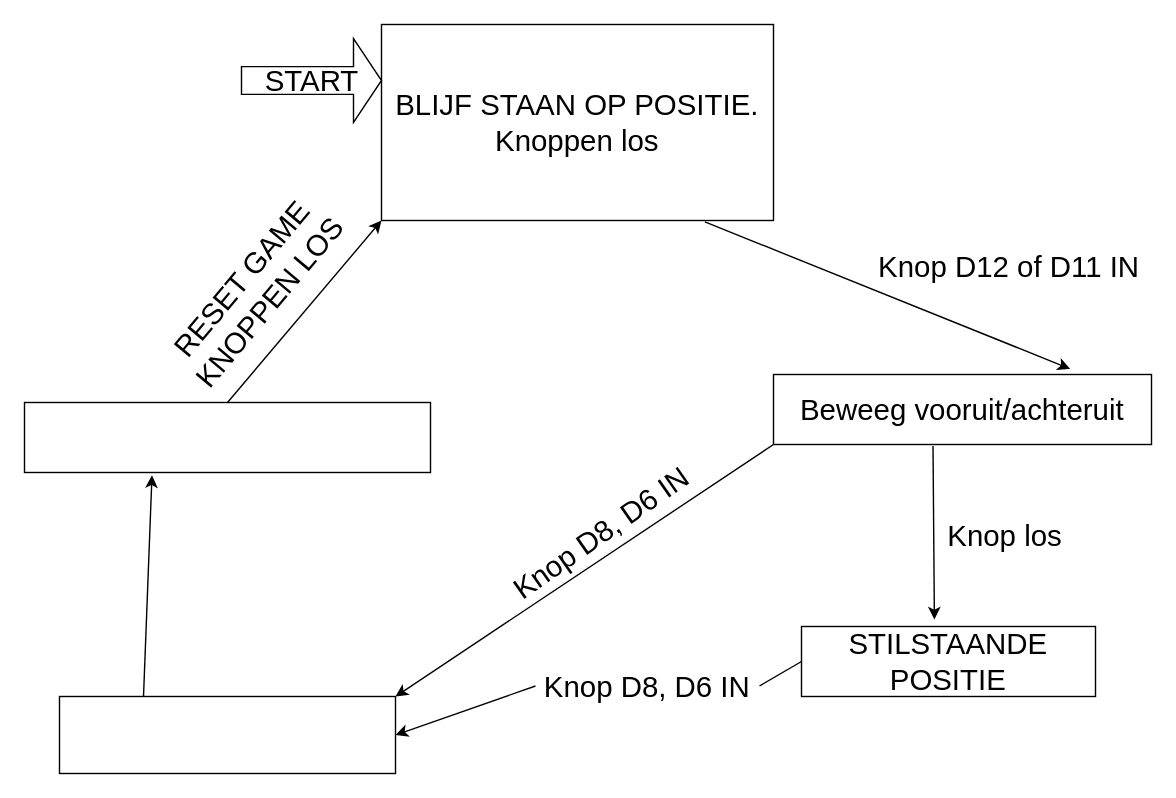
Some shapes in this 1176 by 798 pixel diagram are drawn without their labels. The centre of each missing label's shape, as x and y in pixels:
"Beweeg omhoog/omlaag" belongs at point 227,734.
"GERAAKT DOOR VOORWERP" belongs at point 226,436.
